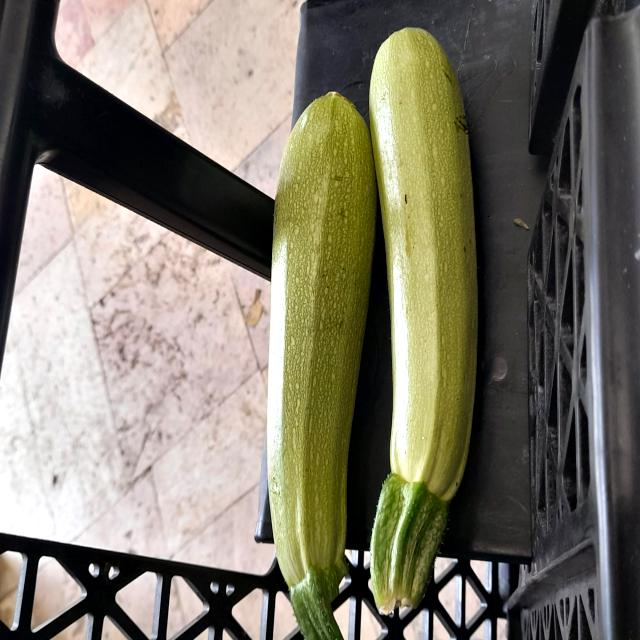zucchini: (354, 28, 489, 618), (263, 95, 378, 640)
